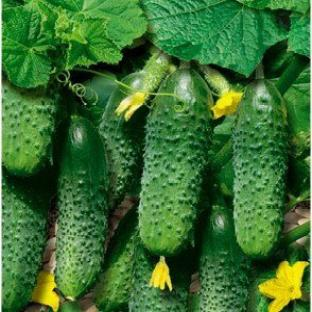Cucumber: (140, 69, 212, 255), (99, 53, 169, 206), (233, 80, 287, 258), (57, 116, 108, 298), (3, 173, 48, 311), (198, 205, 250, 311), (3, 81, 58, 175), (94, 207, 139, 311), (129, 244, 189, 311), (248, 244, 307, 311), (78, 71, 116, 127), (60, 301, 82, 311)
